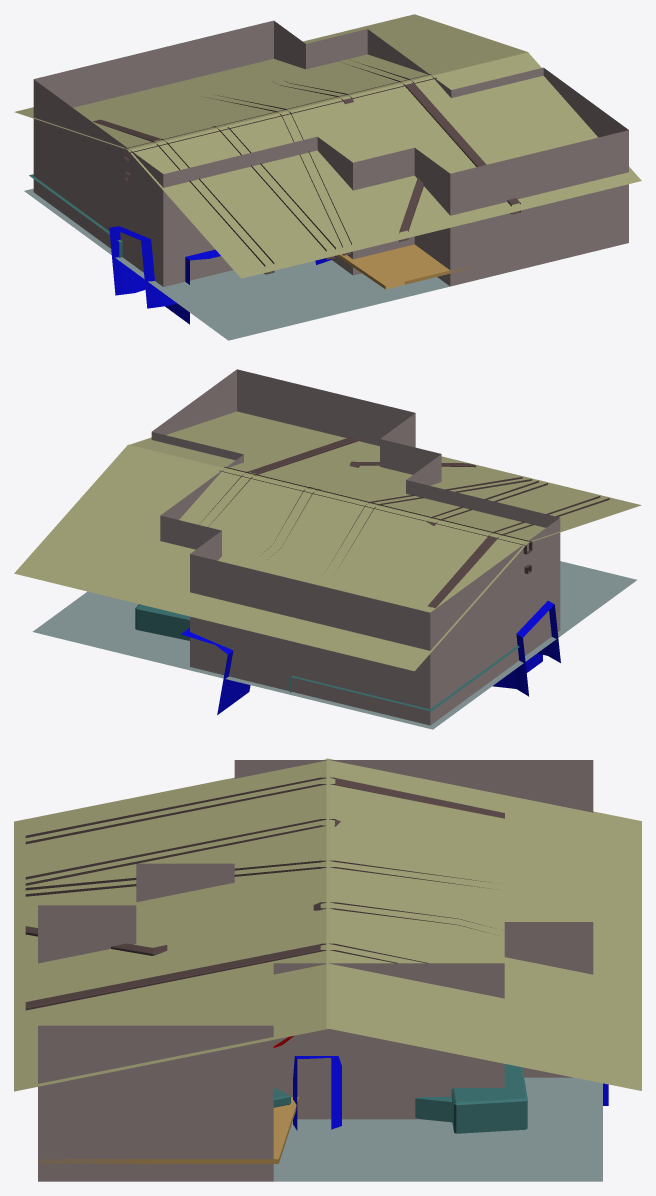
File: SoloTrampilla.fbx
3 renders of one model, top to bottom at view 1: azimuth 30°, elevation 25°; view 2: azimuth 150°, elevation 25°; view 3: azimuth 270°, elevation 25°, orthographic. The views are drawn at different scales.
Visible parts, largest first — view 1: Nivel_1; view 2: Nivel_1; view 3: Nivel_1.
Boxes of the visible parts, box(x1,y1,x2,y2) form: Nivel_1: box(14, 14, 641, 340); Nivel_1: box(14, 369, 641, 729); Nivel_1: box(14, 758, 641, 1181).
Bounding box in the file's own units: 13.21 × 4.74 × 12.78.
